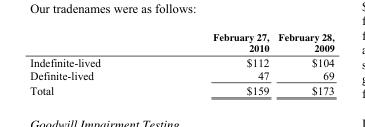table: (29, 29, 333, 96)
table column: (29, 29, 156, 96), (156, 29, 273, 96), (273, 29, 333, 96)
table column header: (29, 29, 333, 55)
table row: (29, 29, 333, 55), (29, 68, 333, 82), (29, 82, 333, 96), (29, 55, 333, 68)
